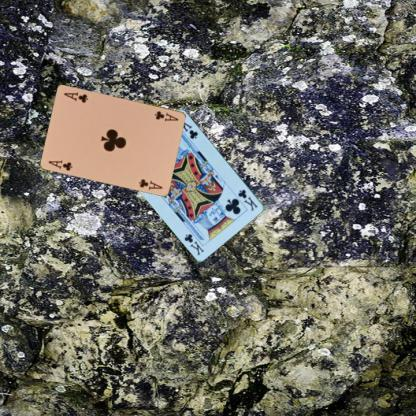Ac: (45, 157, 74, 172), (152, 108, 180, 123)
Kc: (236, 186, 259, 212)
